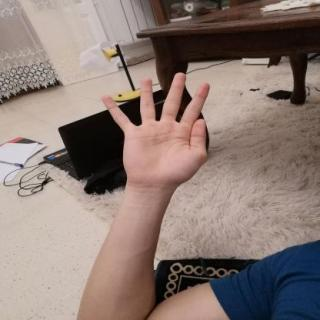SHEEN: (94, 66, 216, 192)
